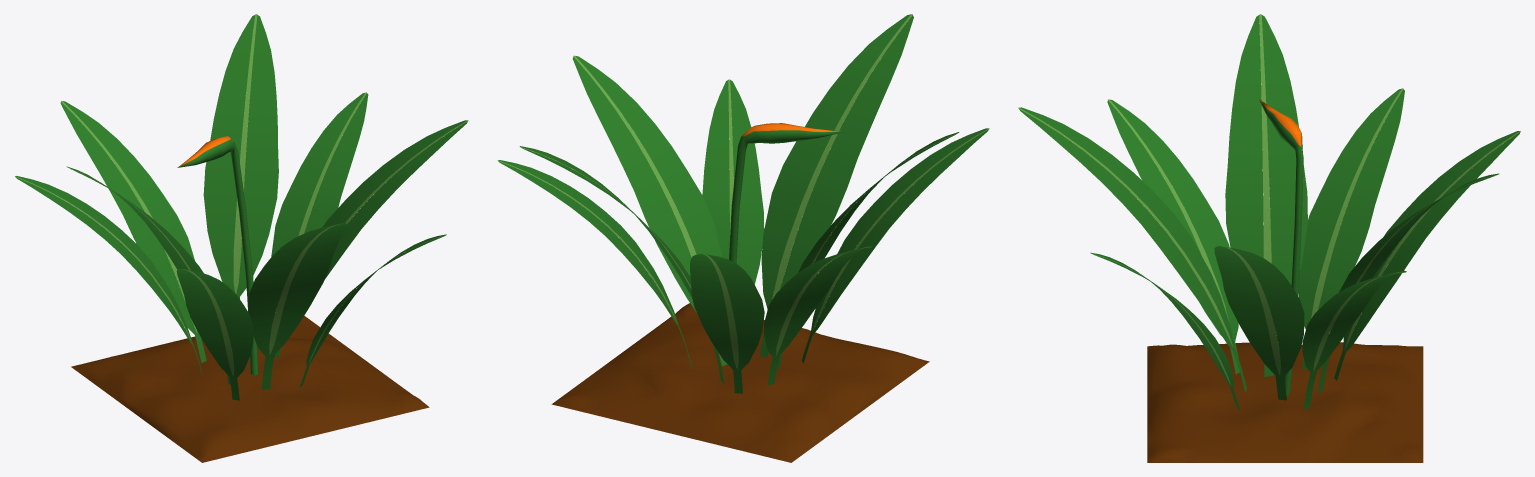
Rendered from bird-of-paradise-p2-leaf.glb.
The picture shows the model from 3 angles, left to right: view 1: azimuth 30°, elevation 25°; view 2: azimuth 150°, elevation 25°; view 3: azimuth 270°, elevation 25°; orthographic projection. The views are drawn at different scales.
Parts seen in each view (by area): view 1: 2_nft_out_of_bloom; view 2: 2_nft_out_of_bloom; view 3: 2_nft_out_of_bloom.
Part boxes in pixels (x1,y1,x2,y2): 2_nft_out_of_bloom: (15, 14, 468, 462); 2_nft_out_of_bloom: (497, 14, 989, 462); 2_nft_out_of_bloom: (1018, 14, 1520, 462).
Bounding box in the file's own units: 1.18 × 0.8128 × 1.28.
